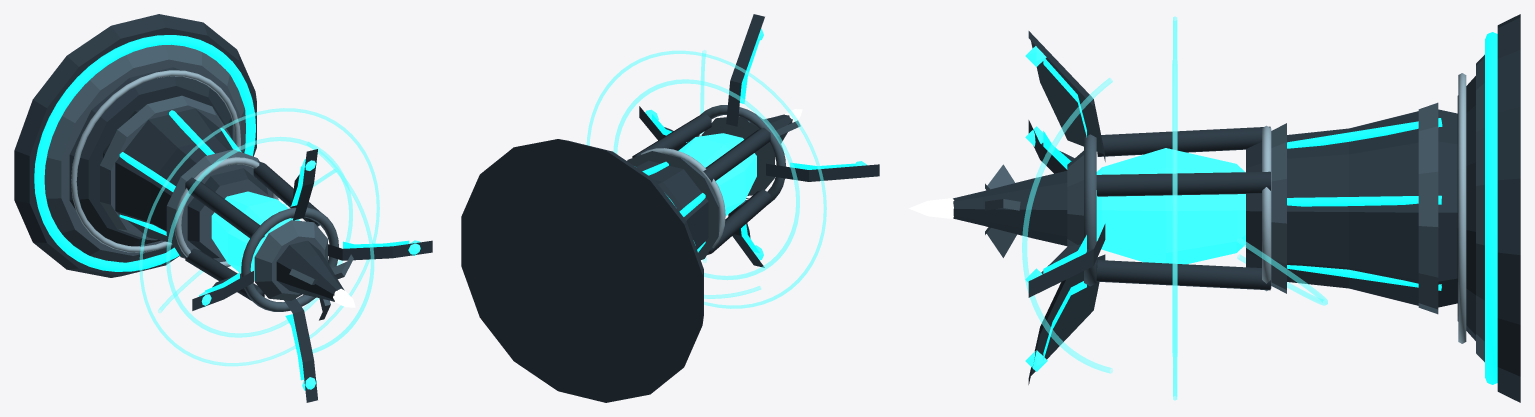
Rendered from shieldbearer.glb.
3 views of the same model, side by side, from view 1: azimuth 30°, elevation 25°; view 2: azimuth 150°, elevation 25°; view 3: azimuth 270°, elevation 25° (orthographic). The views are drawn at different scales.
Parts seen in each view (by area): view 1: Base_Mid, Base_Lower, Beacon_Main_Body, Base_Upper, Base_Energy_Ring, Lower_Collar, Core_Cradle, Shield_Broadcast_Halo_B, Base_Alloy_Trim, Crown_Collar, Shield_Core_Crystal, Antenna_Spire (+14 smaller); view 2: Base_Lower, Shield_Core_Crystal, Beacon_Main_Body, Shield_Broadcast_Halo_B, Shield_Broadcast_Halo_A, Core_Cradle, Crown_Collar, Projection_Fin_03, Projection_Fin_02, Core_Guard_02, Core_Focus_Ring_Upper, Core_Guard_03 (+3 smaller); view 3: Beacon_Main_Body, Shield_Core_Crystal, Base_Lower, Antenna_Spire, Base_Energy_Ring, Lower_Collar, Core_Guard_01, Core_Guard_04, Core_Guard_02, Projection_Fin_02, Base_Upper, Base_Mid (+16 smaller).
Boxes of the visible parts, <box> form: Base_Mid: <box>44,44,245,262</box>; Base_Lower: <box>14,14,256,277</box>; Beacon_Main_Body: <box>103,108,268,258</box>; Base_Upper: <box>69,67,232,246</box>; Base_Energy_Ring: <box>34,35,255,271</box>; Lower_Collar: <box>100,95,231,240</box>; Core_Cradle: <box>166,149,272,262</box>; Shield_Broadcast_Halo_B: <box>139,108,379,366</box>; Base_Alloy_Trim: <box>71,70,240,252</box>; Crown_Collar: <box>254,220,327,300</box>; Shield_Core_Crystal: <box>211,191,299,280</box>; Antenna_Spire: <box>276,240,344,301</box>; Base_Lower: <box>461,139,703,402</box>; Shield_Core_Crystal: <box>678,133,756,215</box>; Beacon_Main_Body: <box>636,160,708,249</box>; Shield_Broadcast_Halo_B: <box>586,50,826,308</box>; Shield_Broadcast_Halo_A: <box>613,79,799,280</box>; Core_Cradle: <box>627,151,719,259</box>; Crown_Collar: <box>701,116,774,195</box>; Projection_Fin_03: <box>766,163,879,181</box>; Projection_Fin_02: <box>726,14,764,126</box>; Core_Guard_02: <box>703,128,770,182</box>; Core_Focus_Ring_Upper: <box>688,105,785,207</box>; Core_Guard_03: <box>707,189,770,254</box>; Beacon_Main_Body: <box>1246,109,1457,307</box>; Shield_Core_Crystal: <box>1096,148,1245,264</box>; Base_Lower: <box>1497,14,1520,402</box>; Antenna_Spire: <box>953,171,1067,245</box>; Base_Energy_Ring: <box>1485,32,1497,384</box>; Lower_Collar: <box>1418,102,1438,314</box>; Core_Guard_01: <box>1096,171,1270,196</box>; Core_Guard_04: <box>1096,260,1270,290</box>; Core_Guard_02: <box>1097,126,1270,156</box>; Projection_Fin_02: <box>1028,31,1105,161</box>; Base_Upper: <box>1457,76,1475,340</box>; Base_Mid: <box>1476,54,1484,362</box>.
Bounding box in the file's own units: 3.37 × 3.37 × 5.35.
